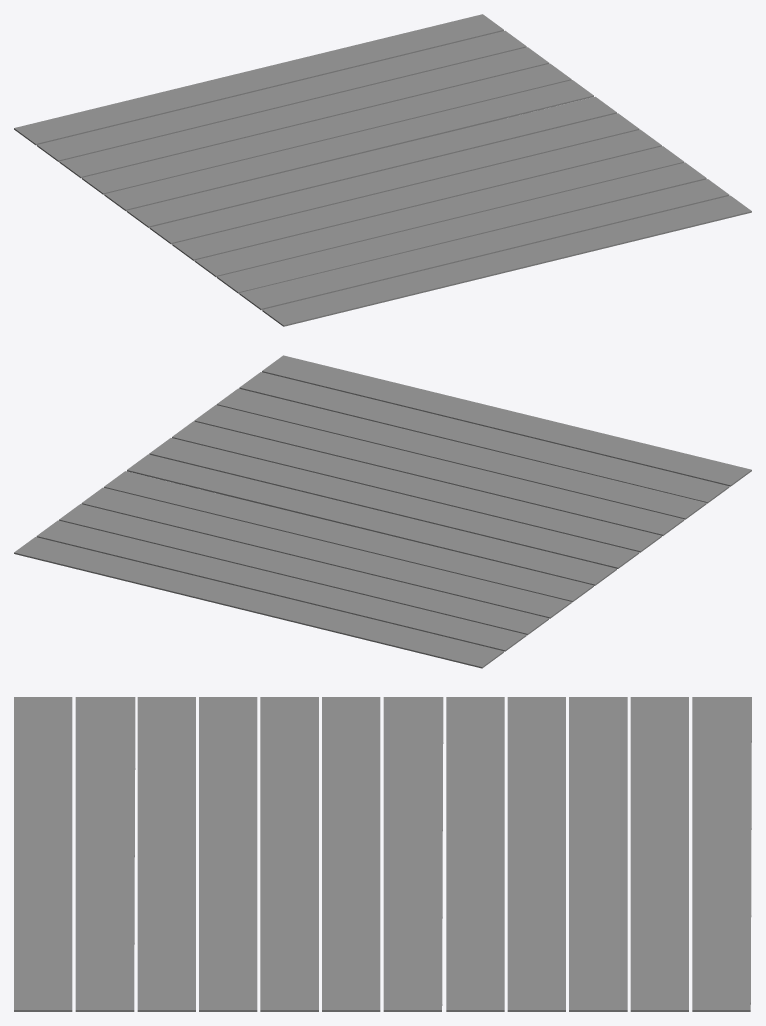
Rendered from Boards.fbx.
3 renders of one model, top to bottom at view 1: azimuth 30°, elevation 25°; view 2: azimuth 150°, elevation 25°; view 3: azimuth 270°, elevation 25°, orthographic. The views are drawn at different scales.
Parts seen in each view (by area): view 1: Boards; view 2: Boards; view 3: Boards.
Part boxes in pixels (bbox=[...]): Boards: bbox=[14, 14, 751, 326]; Boards: bbox=[14, 355, 751, 668]; Boards: bbox=[14, 697, 751, 1011].
Size of the model in its own units: 489 by 488 by 1.41.
